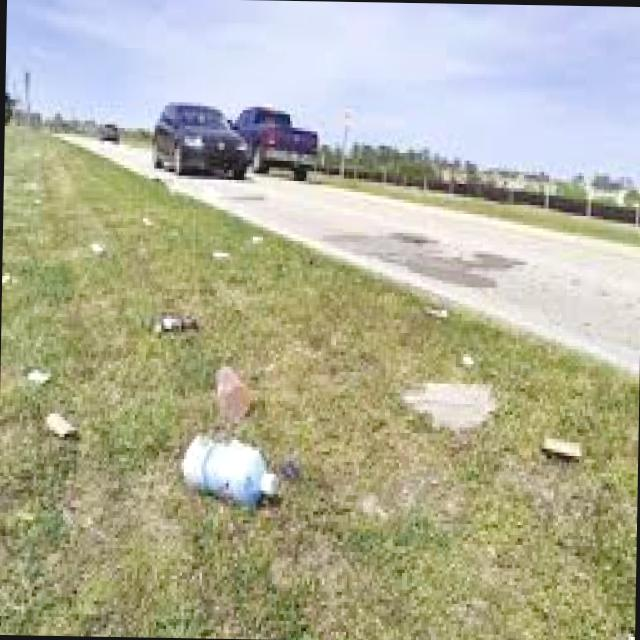Plastic: (174, 425, 289, 513)
